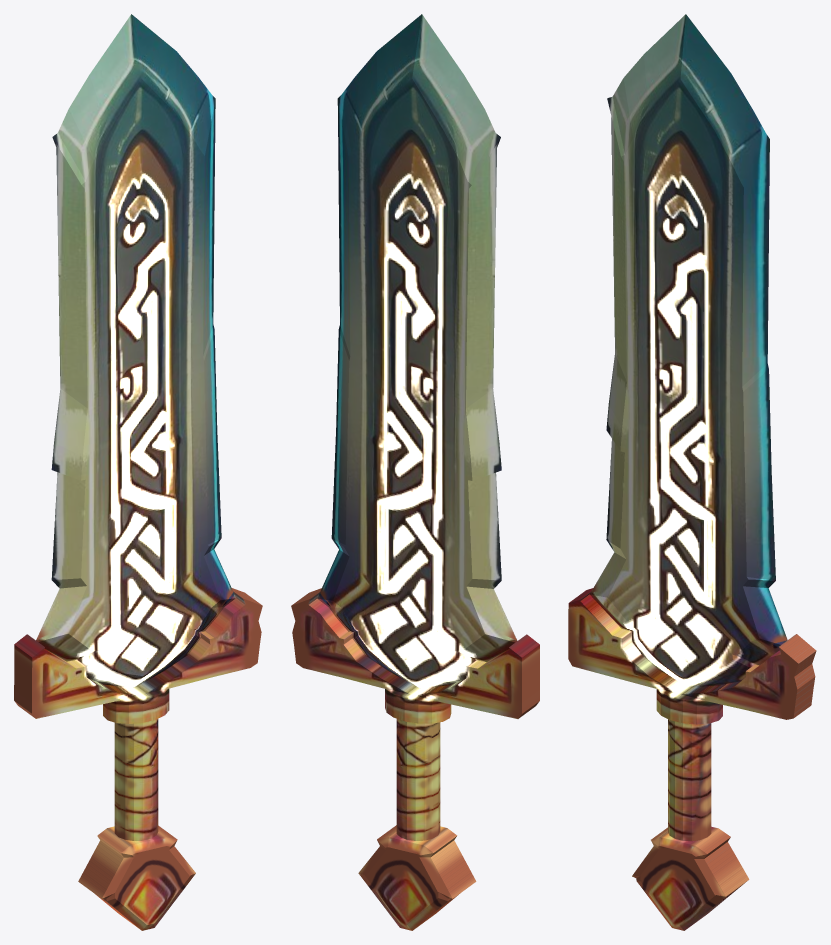
File: kılıç_1.fbx
3 views of the same model, side by side, from view 1: azimuth 30°, elevation 25°; view 2: azimuth 150°, elevation 25°; view 3: azimuth 330°, elevation 25° (orthographic).
Visible parts, largest first — view 1: Sword4; view 2: Sword4; view 3: Sword4.
Part boxes in pixels (box(x1,y1,x2,y2)): Sword4: box(14, 14, 262, 930); Sword4: box(291, 14, 539, 930); Sword4: box(568, 14, 816, 930).
Size of the model in its own units: 131 by 493 by 27.99.
1 material, 1 textured.
